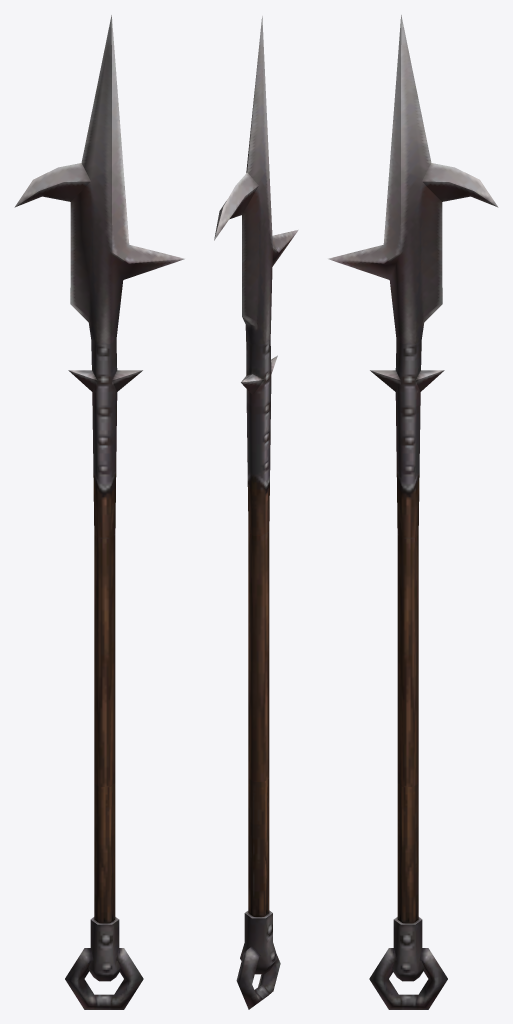
Rendered from polearm15_c04d8c02.glb.
The picture shows the model from 3 angles, left to right: view 1: azimuth 90°, elevation 25°; view 2: azimuth 150°, elevation 25°; view 3: azimuth 270°, elevation 25°; orthographic projection.
Bounding box in the file's own units: 0.1083 × 3.57 × 0.5576.
Materials: 1 (1 with a texture image).
